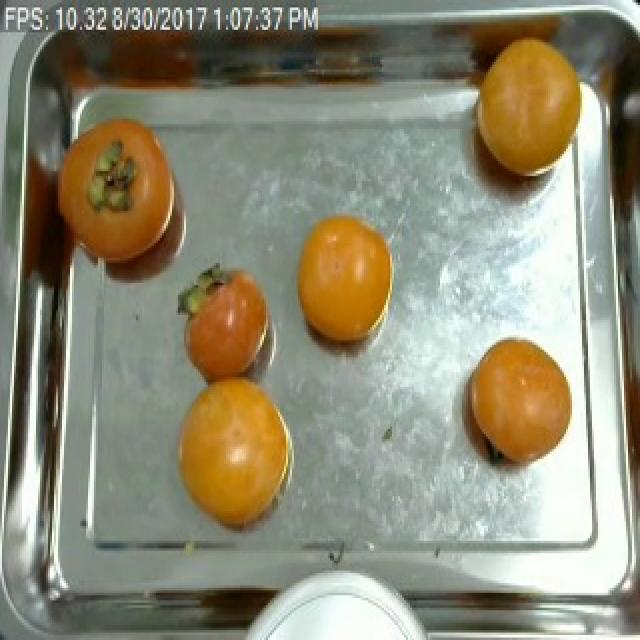Fruit: (46, 99, 192, 285), (168, 375, 298, 543), (460, 20, 586, 193), (456, 330, 576, 476), (288, 204, 396, 362), (176, 260, 278, 392)
